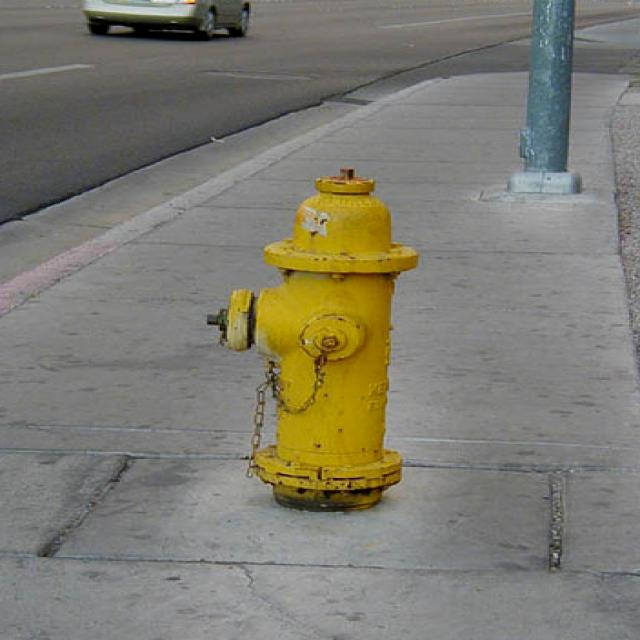Vehicle: (70, 0, 254, 39)
